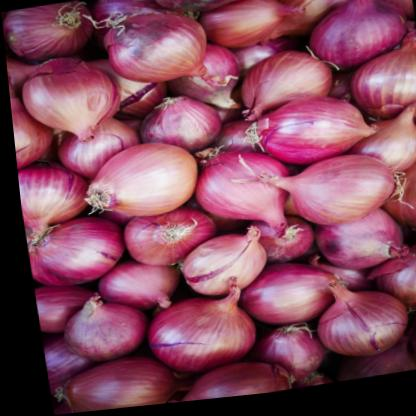--: (77, 0, 226, 103), (135, 281, 256, 393), (241, 86, 384, 178), (67, 134, 204, 229), (272, 154, 405, 245), (294, 271, 411, 374), (19, 213, 127, 300), (165, 223, 272, 304)
